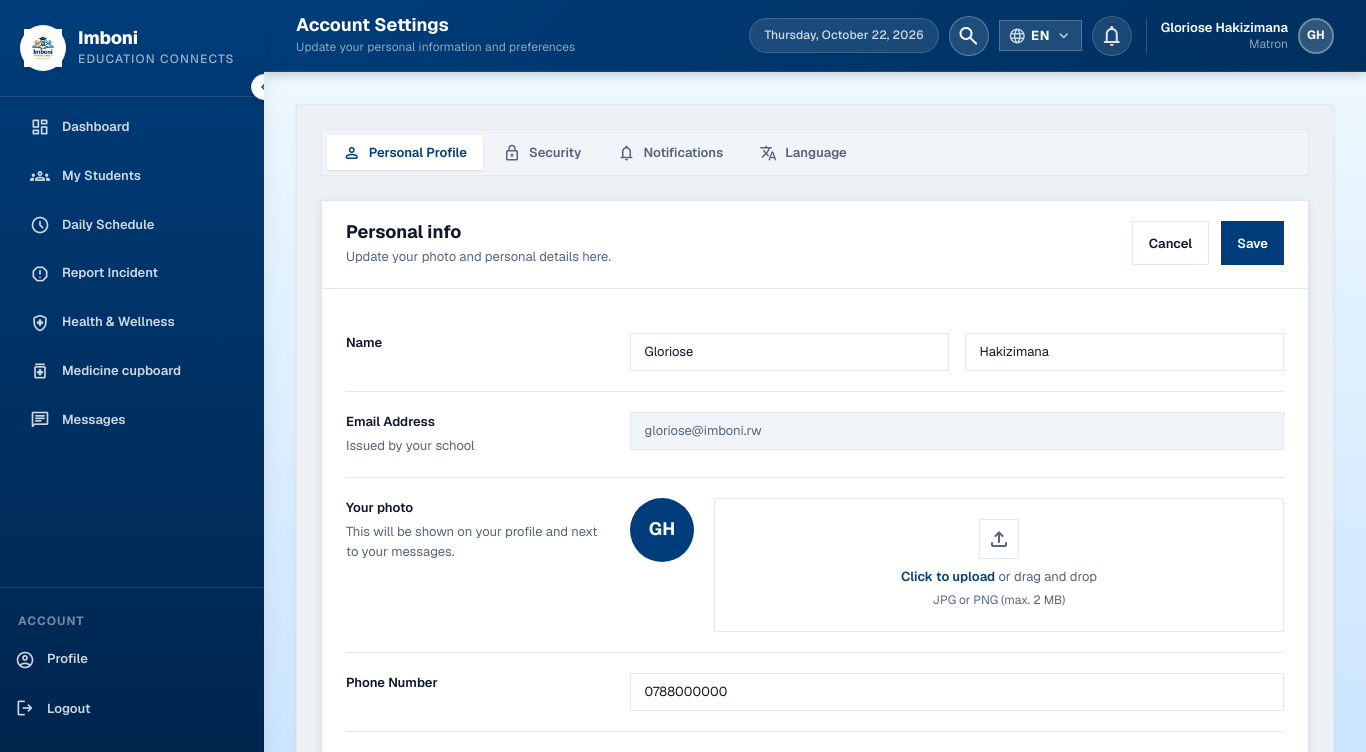
Test: Account › shows the server error message when changePassword rejects
The width and height of the screenshot is (1366, 752).
Check: the field showing "Gloriose" is shown, box [630,333,949,371]
Step 1. Click the tab "Security" → (542, 153), box [487,135,597,170]
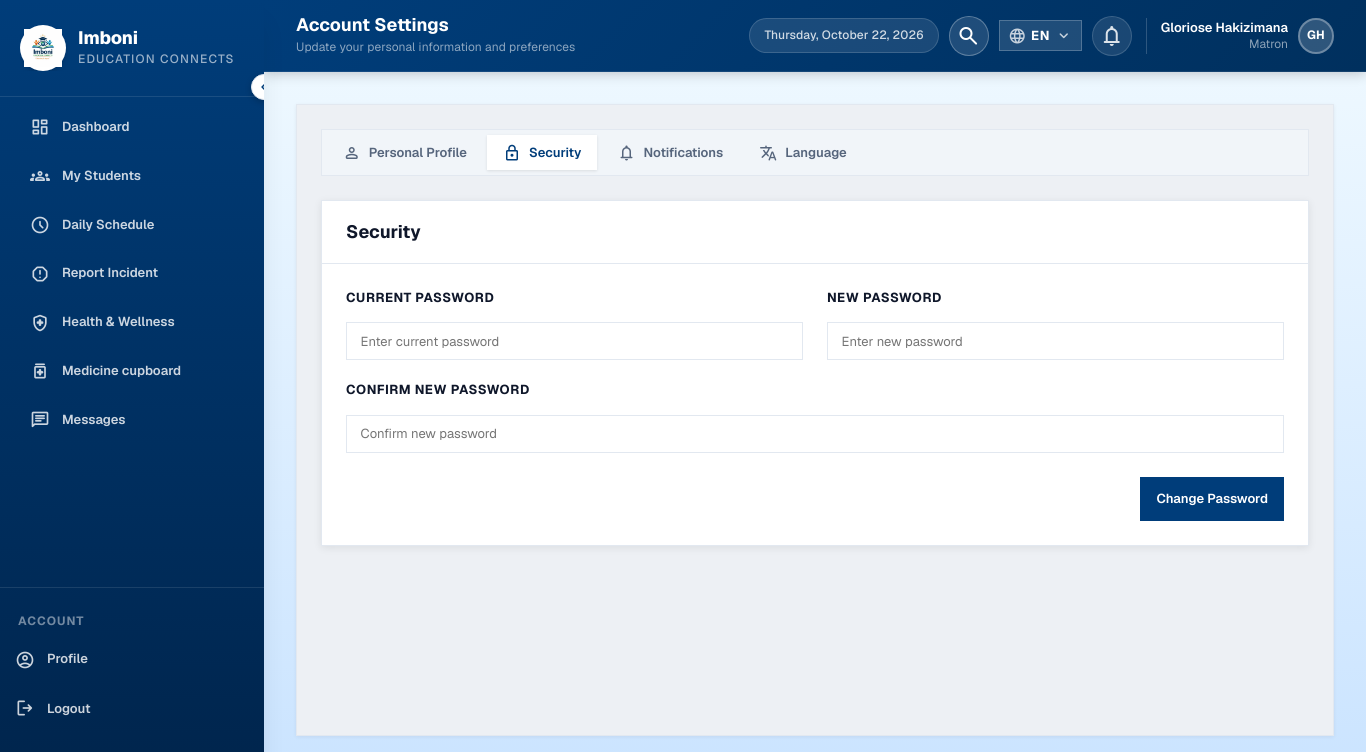
Step 2. Type "badpass" into the password field with placeholder "Enter current password" → (574, 341), box [346,322,803,360]
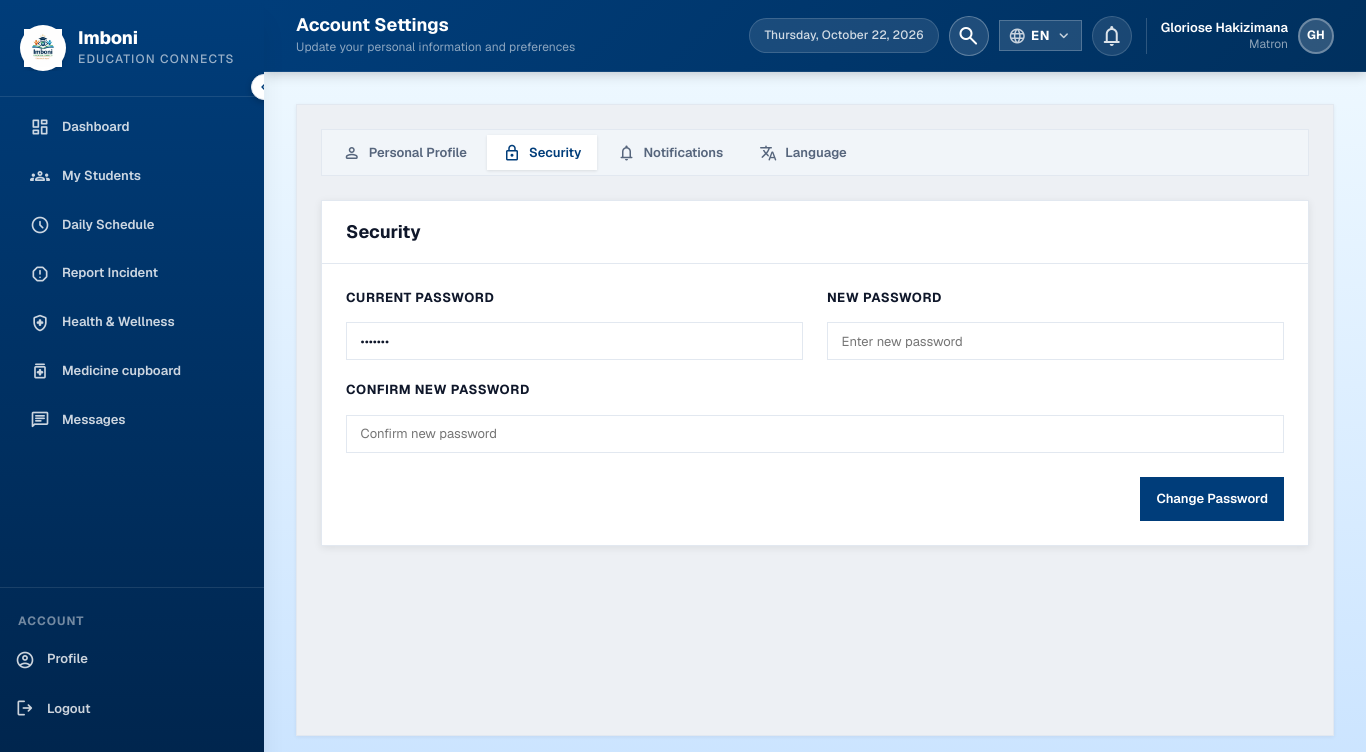
Step 3. Type "newpass123" into the password field with placeholder "Enter new password" → (1056, 341), box [827,322,1284,360]
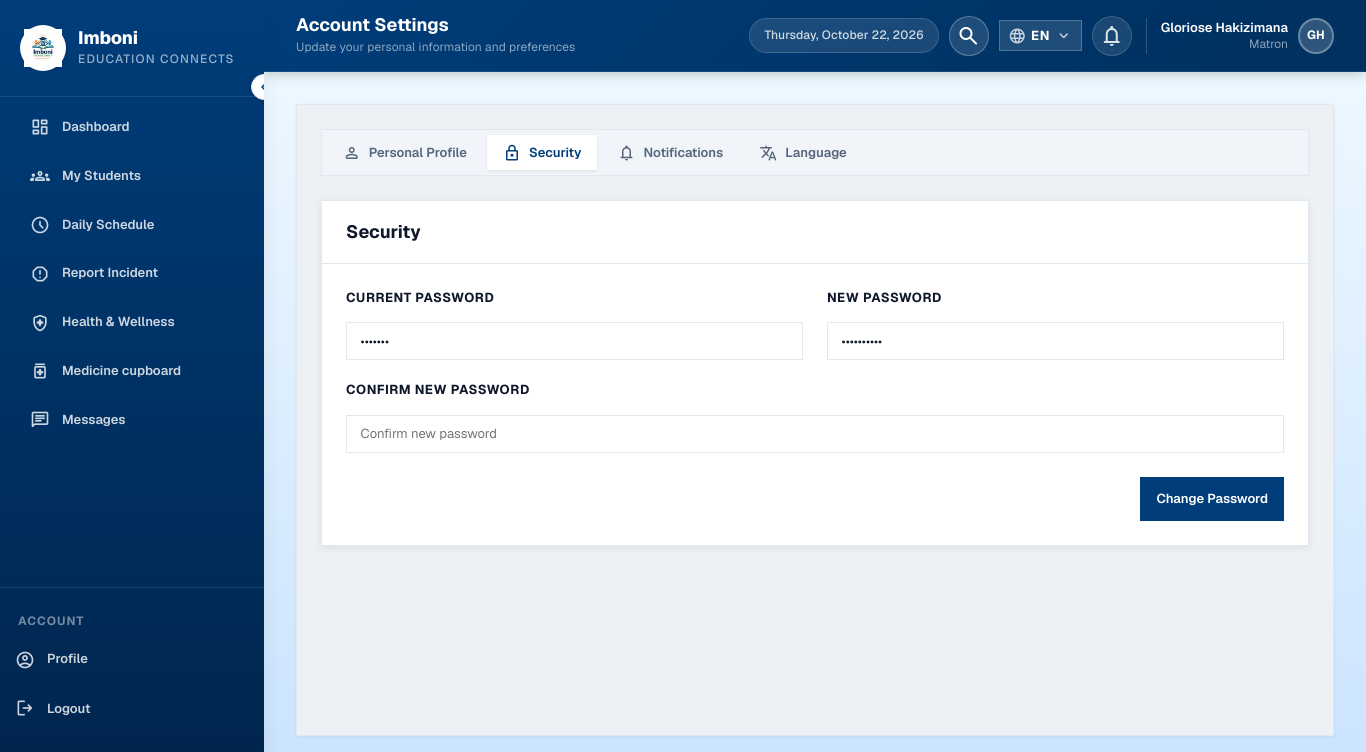
Step 4. Type "newpass123" into the password field with placeholder "Confirm new password" → (815, 434), box [346,415,1284,453]
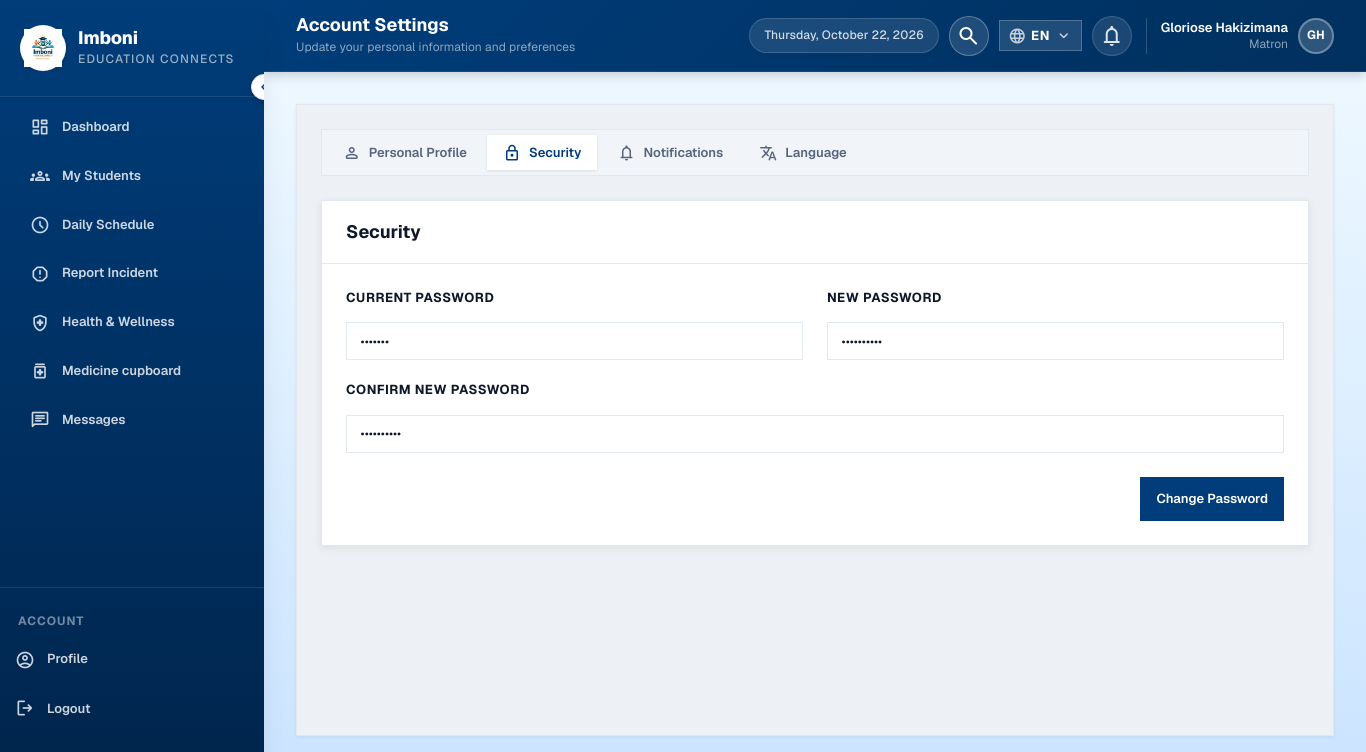
Step 5. Click the button "Change Password" → (1212, 499), box [1140,477,1284,521]
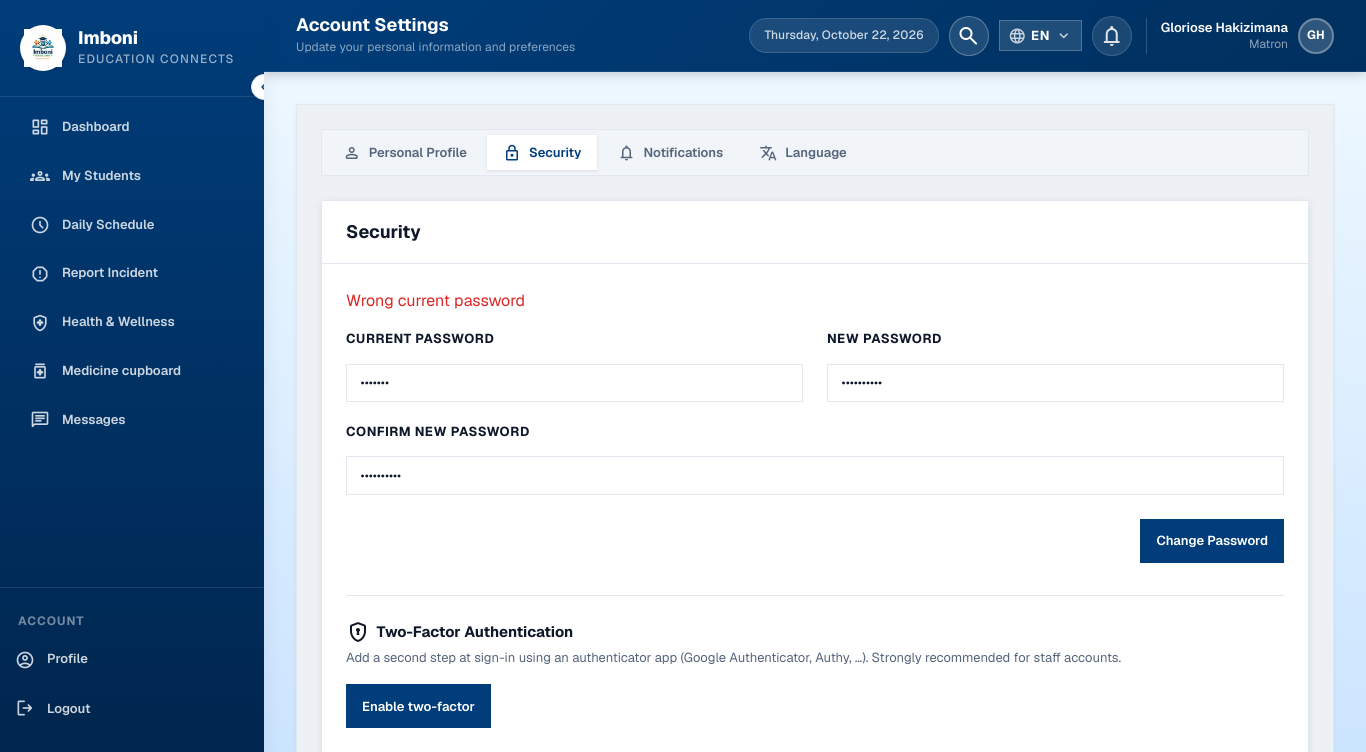
Check: the text "Wrong current password" is shown, box [346,290,525,311]
